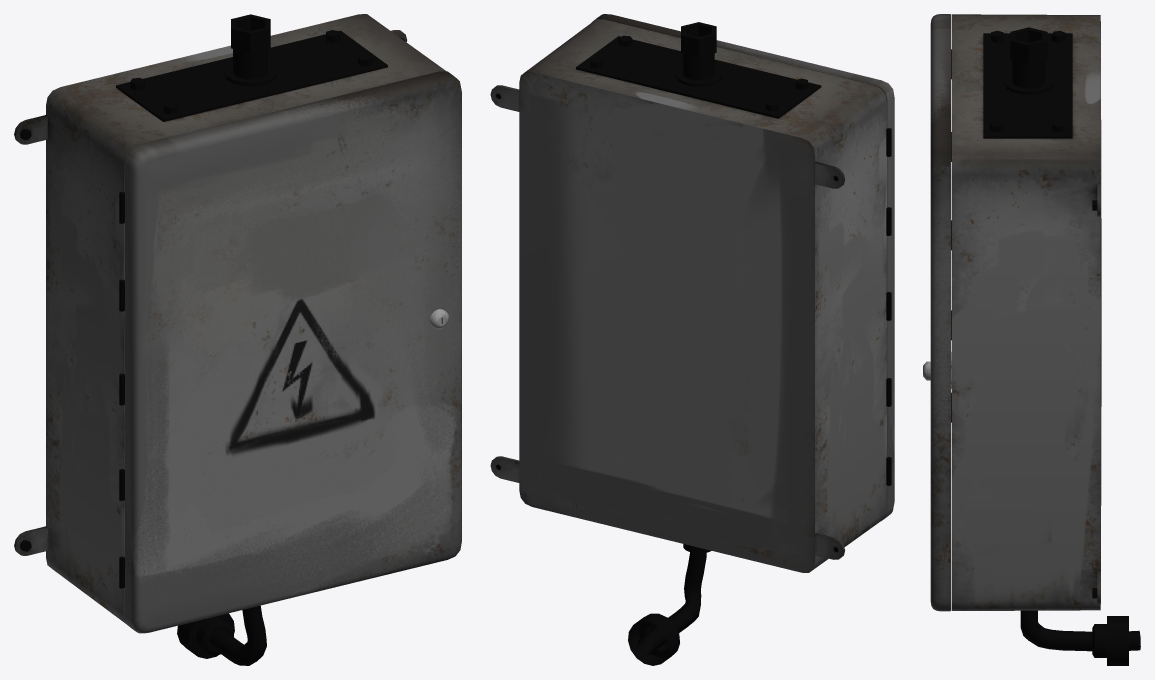
File: sghhxbasyxdgv.fbx
3 renders of one model, left to right at view 1: azimuth 30°, elevation 25°; view 2: azimuth 150°, elevation 25°; view 3: azimuth 270°, elevation 25°, orthographic. The views are drawn at different scales.
Visible parts, largest first — view 1: Box101; view 2: Box101; view 3: Box101.
Boxes of the visible parts, <box> form: Box101: <box>14,14,461,665</box>; Box101: <box>490,14,894,665</box>; Box101: <box>923,14,1140,665</box>.
Size of the model in its own units: 42.92 by 69.62 by 21.94.
